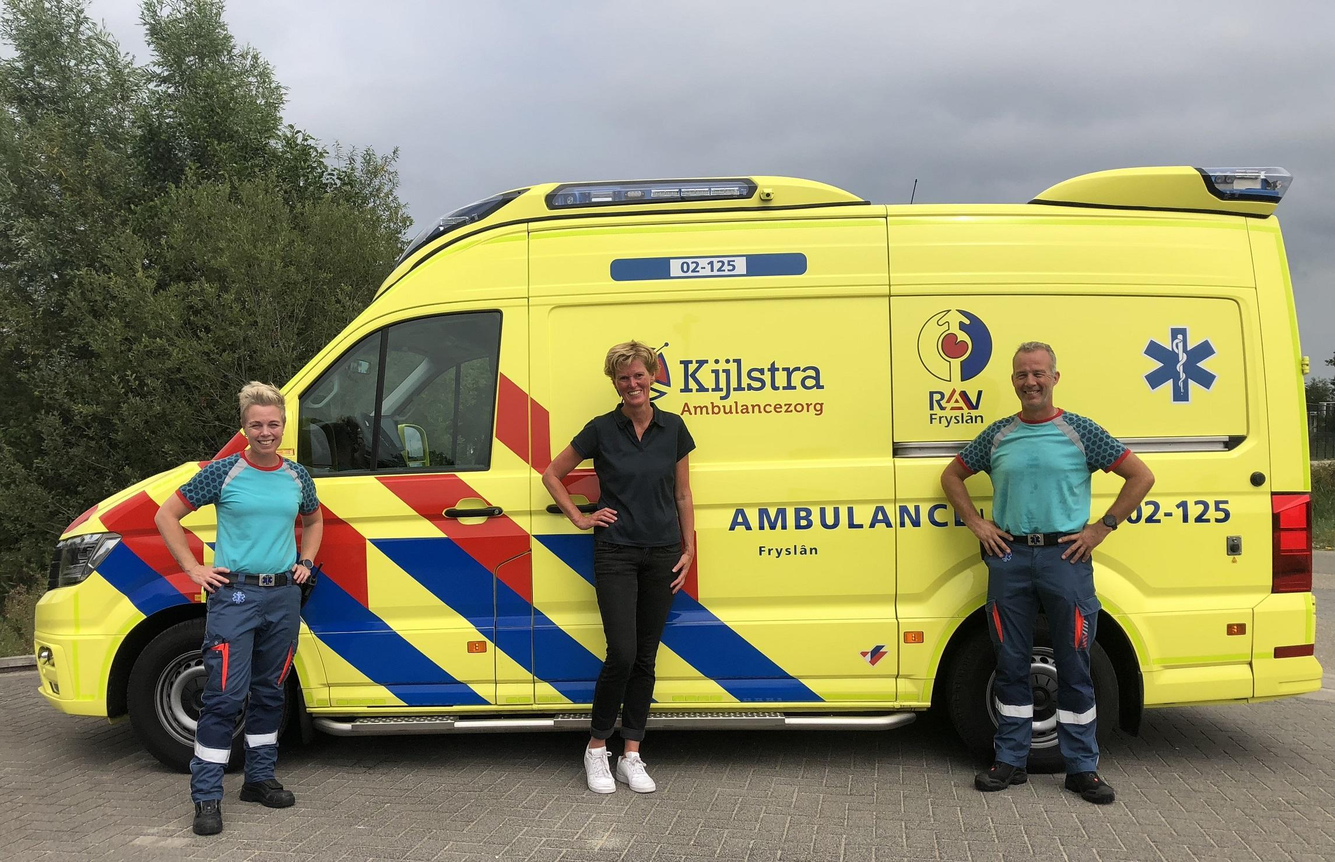Ambulance: (1131, 311, 1227, 415)
